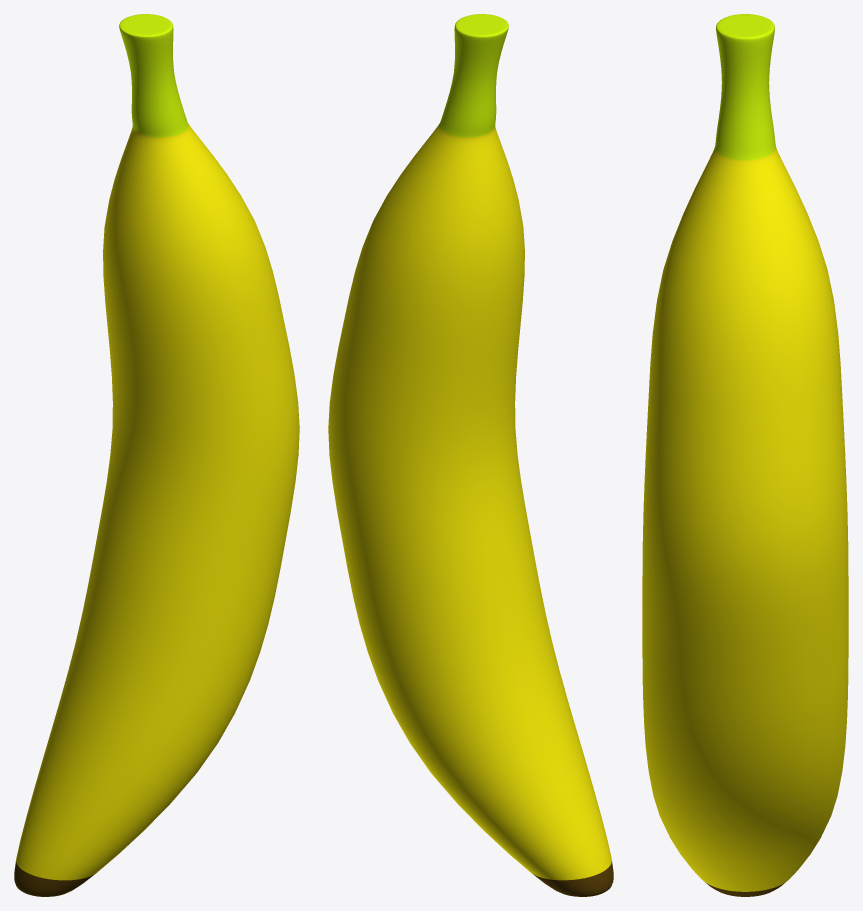
File: banana.fbx
The picture shows the model from 3 angles, left to right: view 1: azimuth 30°, elevation 25°; view 2: azimuth 150°, elevation 25°; view 3: azimuth 270°, elevation 25°; orthographic projection. The views are drawn at different scales.
Visible parts, largest first — view 1: banana; view 2: banana; view 3: banana.
Boxes of the visible parts, left/top/right/bottom form: banana: left=14, top=14, right=299, bottom=896; banana: left=328, top=14, right=613, bottom=896; banana: left=642, top=14, right=848, bottom=896.
Bounding box in the file's own units: 31.19 × 93.11 × 19.04.
